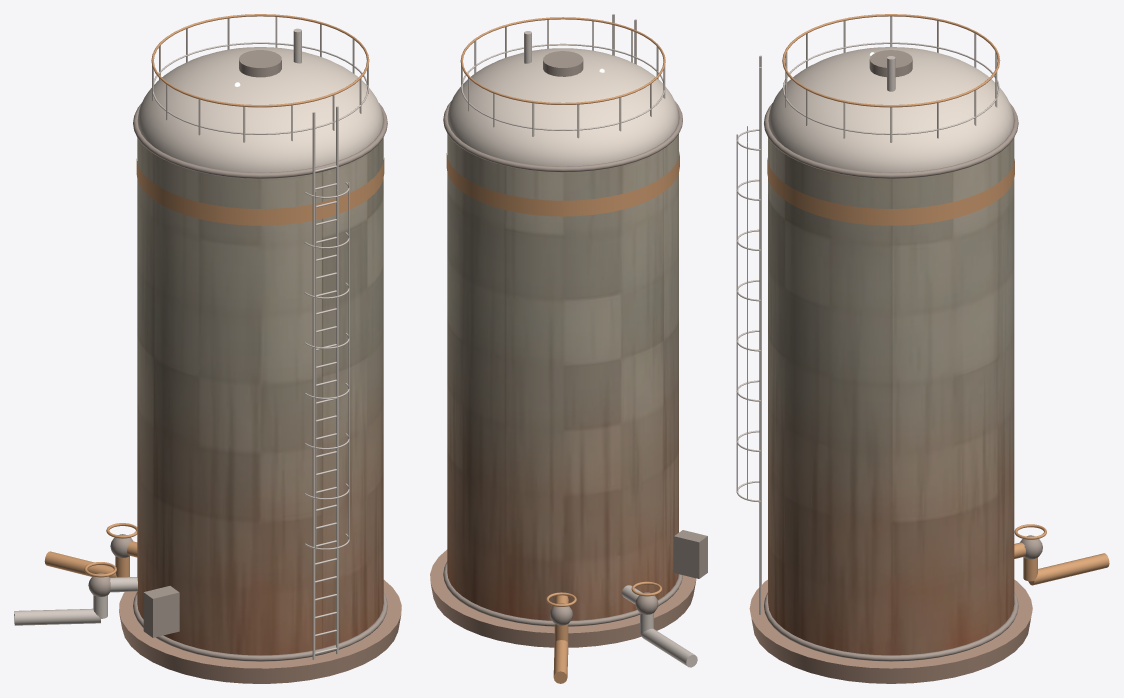
Rendered from E10_standing_tank_10m.glb.
3 renders of one model, left to right at view 1: azimuth 30°, elevation 25°; view 2: azimuth 150°, elevation 25°; view 3: azimuth 270°, elevation 25°, orthographic. The views are drawn at different scales.
Parts seen in each view (by area): view 1: tank_shell, tank_roof, ladder_rail, foundation_ring, stiffener_ring; view 2: tank_shell, tank_roof, stiffener_ring, foundation_ring, ladder_rail; view 3: tank_shell, tank_roof, foundation_ring, ladder_rail, stiffener_ring.
Boxes of the visible parts, x1=… form: tank_shell: x1=137, y1=138, x2=383, y2=655; tank_roof: x1=44, y1=14, x2=384, y2=577; ladder_rail: x1=14, y1=17, x2=368, y2=659; foundation_ring: x1=119, y1=580, x2=401, y2=683; stiffener_ring: x1=88, y1=50, x2=387, y2=661; tank_shell: x1=447, y1=134, x2=678, y2=620; tank_roof: x1=446, y1=17, x2=679, y2=683; stiffener_ring: x1=443, y1=51, x2=707, y2=626; foundation_ring: x1=430, y1=549, x2=696, y2=647; ladder_rail: x1=461, y1=14, x2=697, y2=667; tank_shell: x1=768, y1=138, x2=1014, y2=655; tank_roof: x1=767, y1=14, x2=1109, y2=585; foundation_ring: x1=749, y1=579, x2=1032, y2=683; ladder_rail: x1=736, y1=16, x2=999, y2=614; stiffener_ring: x1=764, y1=50, x2=1042, y2=661.
Size of the model in its own units: 5.94 by 10.5 by 6.06.
Materials: 6 (1 with a texture image).
